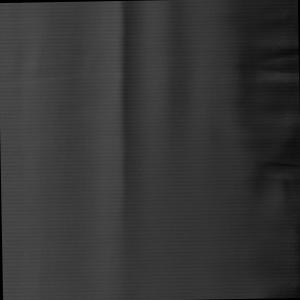Wrinkle: (221, 1, 300, 299), (106, 1, 149, 300), (157, 1, 206, 174)
